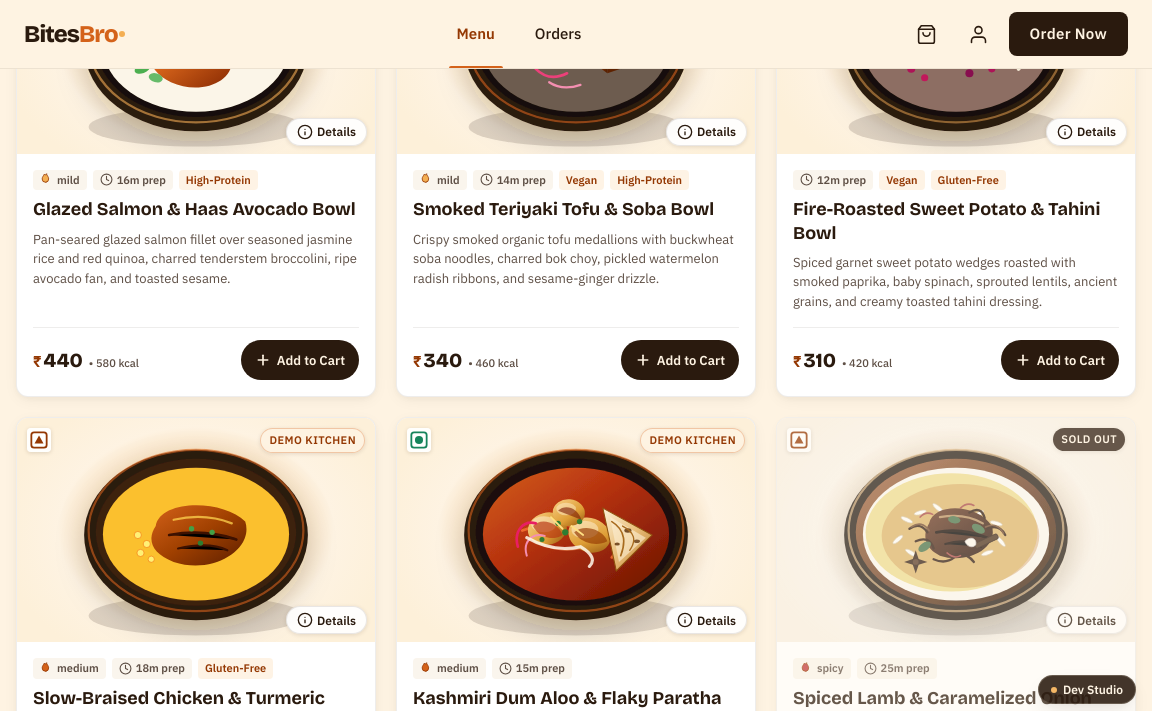
Test case: App Shell Integration › navigates to customer cart view when clicking Navbar cart icon
(page scrolled)
Add an item first
Click the button "Add to Cart" in the row of "580": [300, 360] box top-left (241, 340), bottom-right (359, 380)
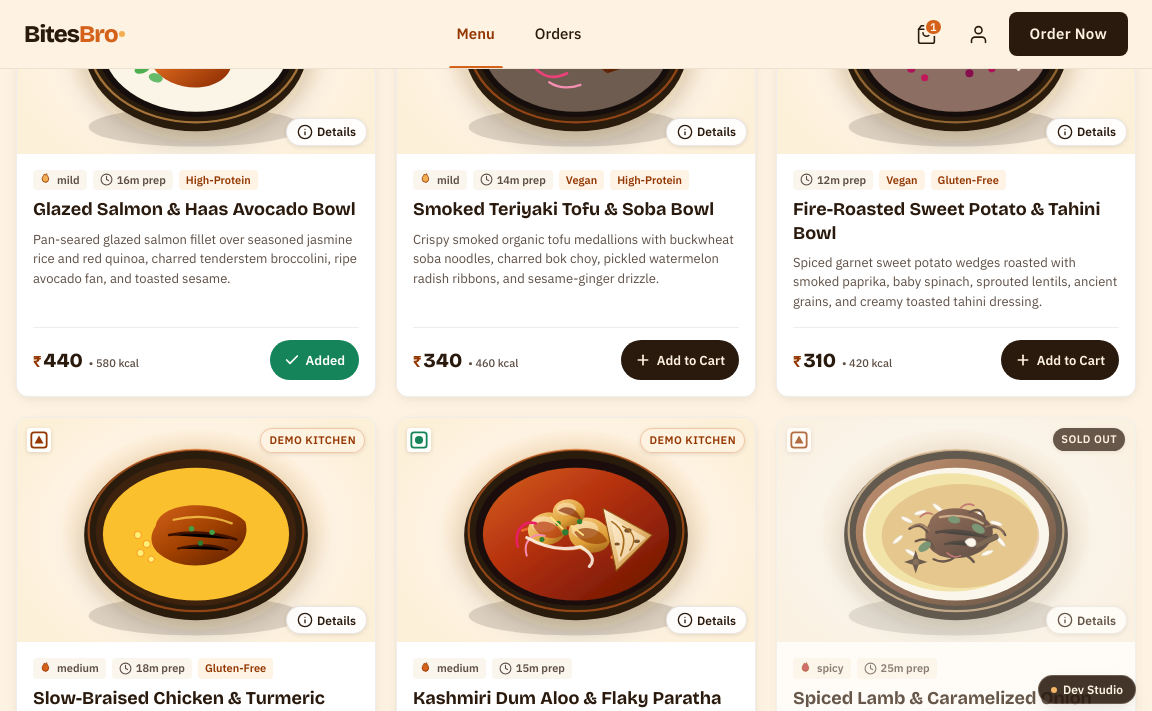
Click on Navbar Cart link
Click the link named "View cart": [929, 31] box top-left (916, 18), bottom-right (943, 44)
(page scrolled)
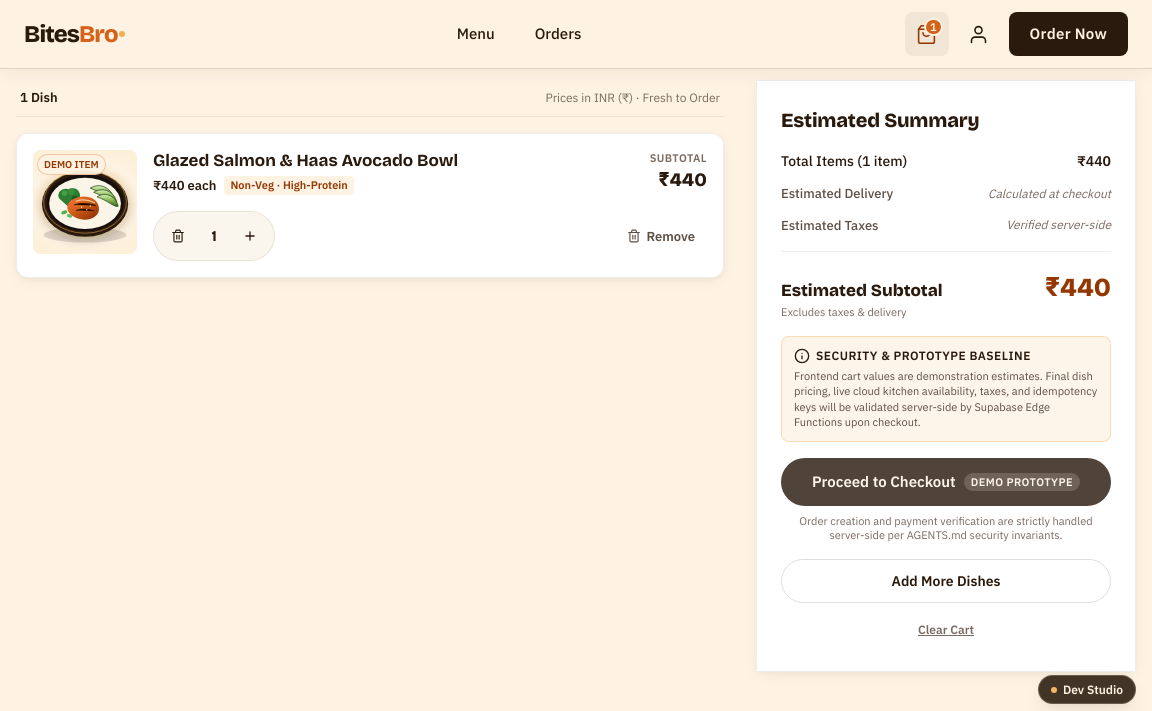
Expected: the heading "Estimated Summary" is shown, top-left (781, 108), bottom-right (979, 132)
Expected: the element named "Dishes in your cart" is shown, top-left (16, 80), bottom-right (724, 278)
